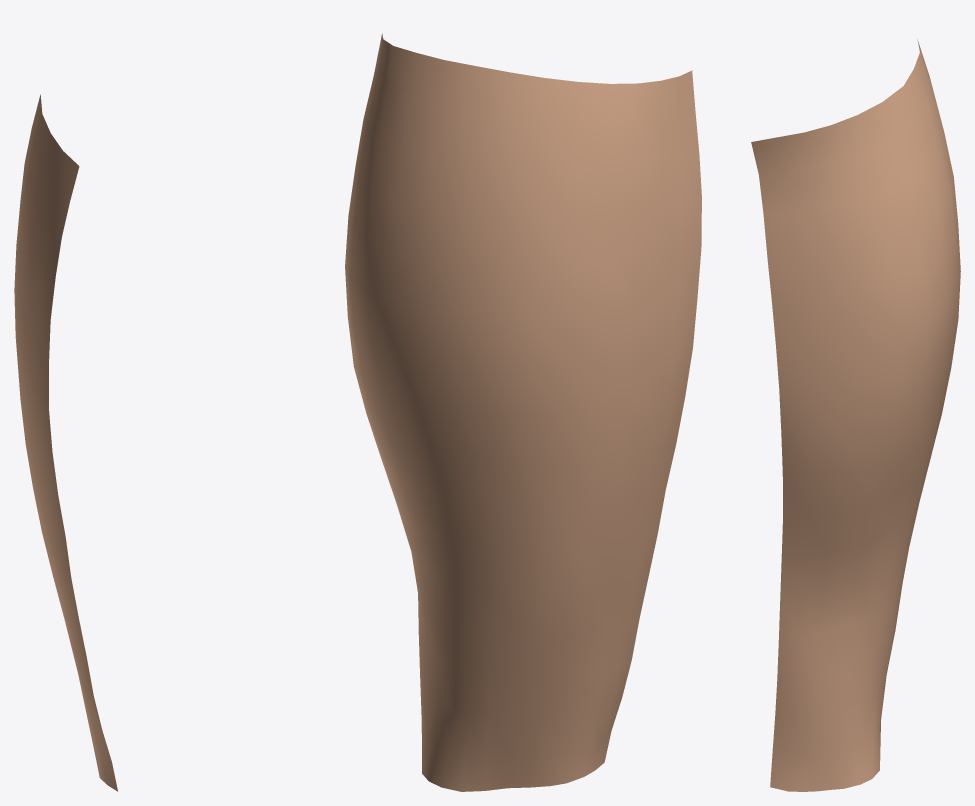
The model's file is posterior-region-of-leg-r.glb.
3 views of the same model, side by side, from view 1: azimuth 30°, elevation 25°; view 2: azimuth 150°, elevation 25°; view 3: azimuth 270°, elevation 25° (orthographic). The views are drawn at different scales.
Visible parts, largest first — view 1: Posterior region of leg.r; view 2: Posterior region of leg.r; view 3: Posterior region of leg.r.
Boxes of the visible parts, x1,y1,x2,y2 form: Posterior region of leg.r: (14,94,117,791); Posterior region of leg.r: (345,33,701,791); Posterior region of leg.r: (751,39,960,791).
Bounding box in the file's own units: 0.1188 × 0.289 × 0.0853.
